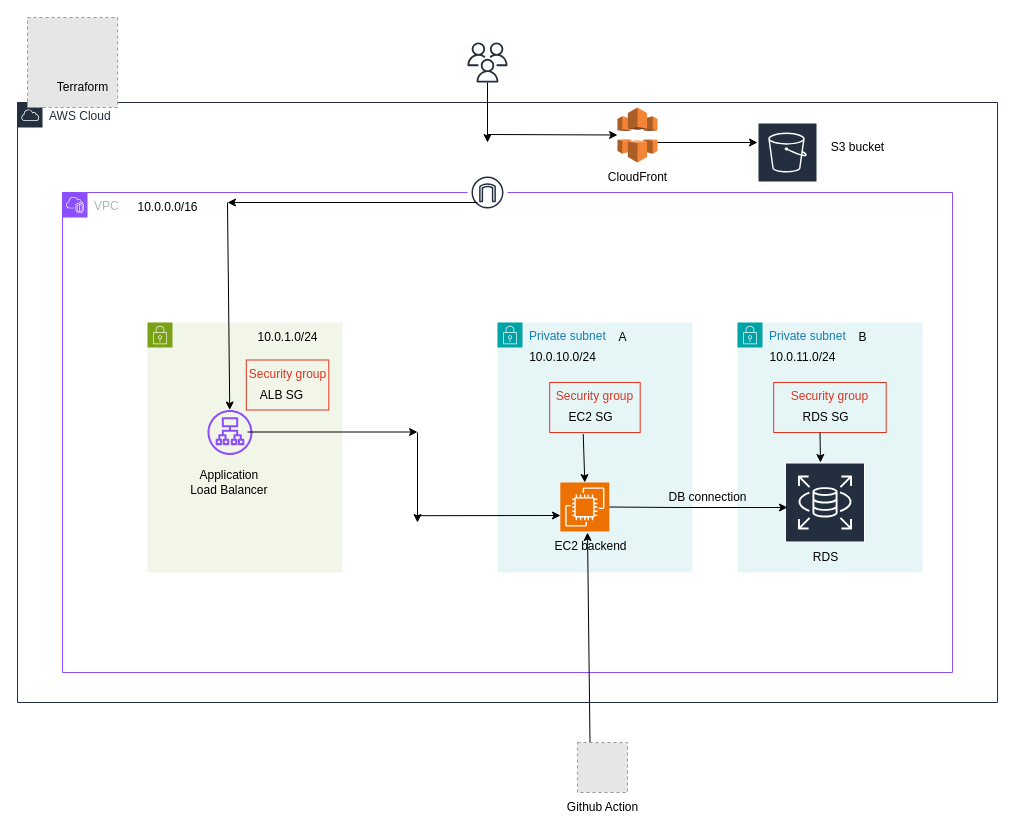
The diagram is 1015 pixels wide and 840 high, and some of its shapes have lost their labels. Grey dashed boxes stand in for pictures. The shapes that lost their labels are listed below. From the top down, each one's box as (x1, y1, x2, y2) in pixels, then its label:
(756, 122, 818, 182): Amazon S3
(466, 172, 508, 212): Internet gateway
(146, 322, 342, 572): Public subnet
